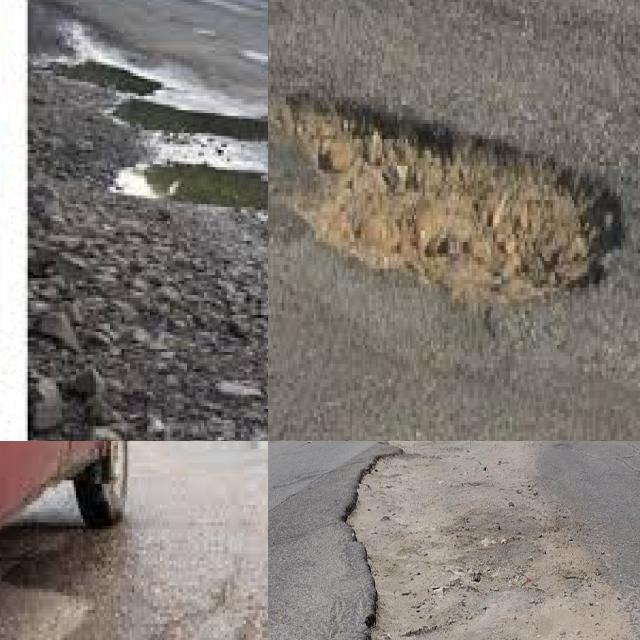Pothole: (268, 86, 632, 314), (56, 59, 268, 142), (119, 164, 268, 213), (360, 594, 434, 640), (339, 486, 389, 553), (371, 450, 403, 479)
